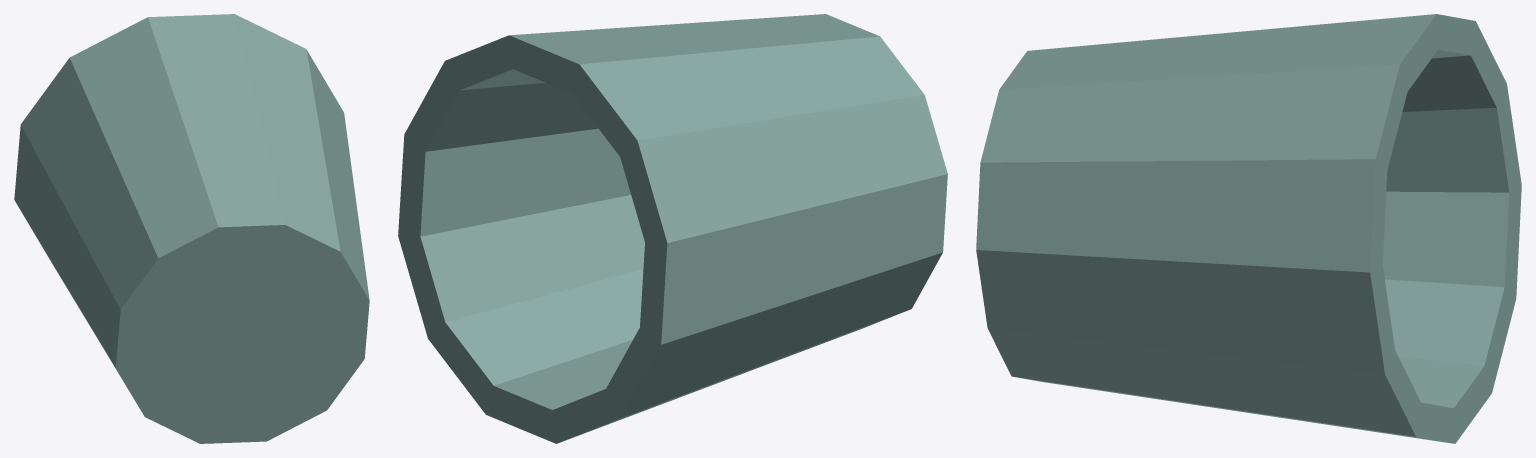
The model's file is copo_deitado.fbx.
The picture shows the model from 3 angles, left to right: view 1: azimuth 30°, elevation 25°; view 2: azimuth 150°, elevation 25°; view 3: azimuth 270°, elevation 25°; orthographic projection. The views are drawn at different scales.
Visible parts, largest first — view 1: copo_deitado; view 2: copo_deitado; view 3: copo_deitado.
Boxes of the visible parts, <box> form: copo_deitado: <box>14,14,369,443</box>; copo_deitado: <box>398,14,947,443</box>; copo_deitado: <box>976,14,1521,443</box>.
Size of the model in its own units: 10.77 by 9.28 by 11.78.
